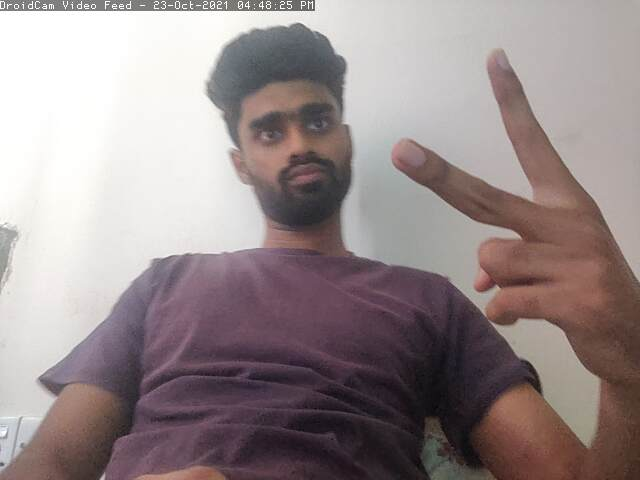Victory: (387, 45, 631, 377)
